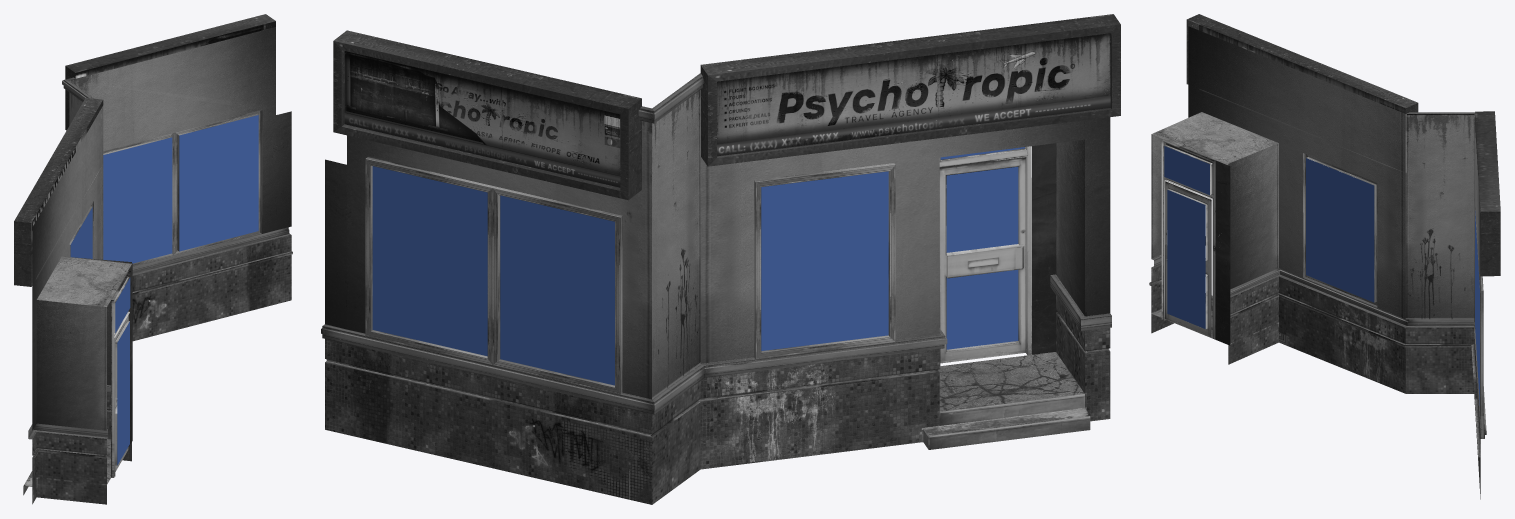
Rendered from travel_agency.fbx.
3 views of the same model, side by side, from view 1: azimuth 30°, elevation 25°; view 2: azimuth 150°, elevation 25°; view 3: azimuth 270°, elevation 25° (orthographic). The views are drawn at different scales.
Parts seen in each view (by area): view 1: Plane002, Plane006; view 2: Plane002, Plane006; view 3: Plane002, Plane006.
Boxes of the visible parts, x1,y1,x2,y2 form: Plane002: [14, 14, 292, 504]; Plane006: [70, 115, 258, 465]; Plane002: [321, 14, 1120, 504]; Plane006: [372, 147, 1024, 385]; Plane002: [1149, 14, 1500, 499]; Plane006: [1164, 146, 1479, 405].
Size of the model in its own units: 667 by 432 by 482.
